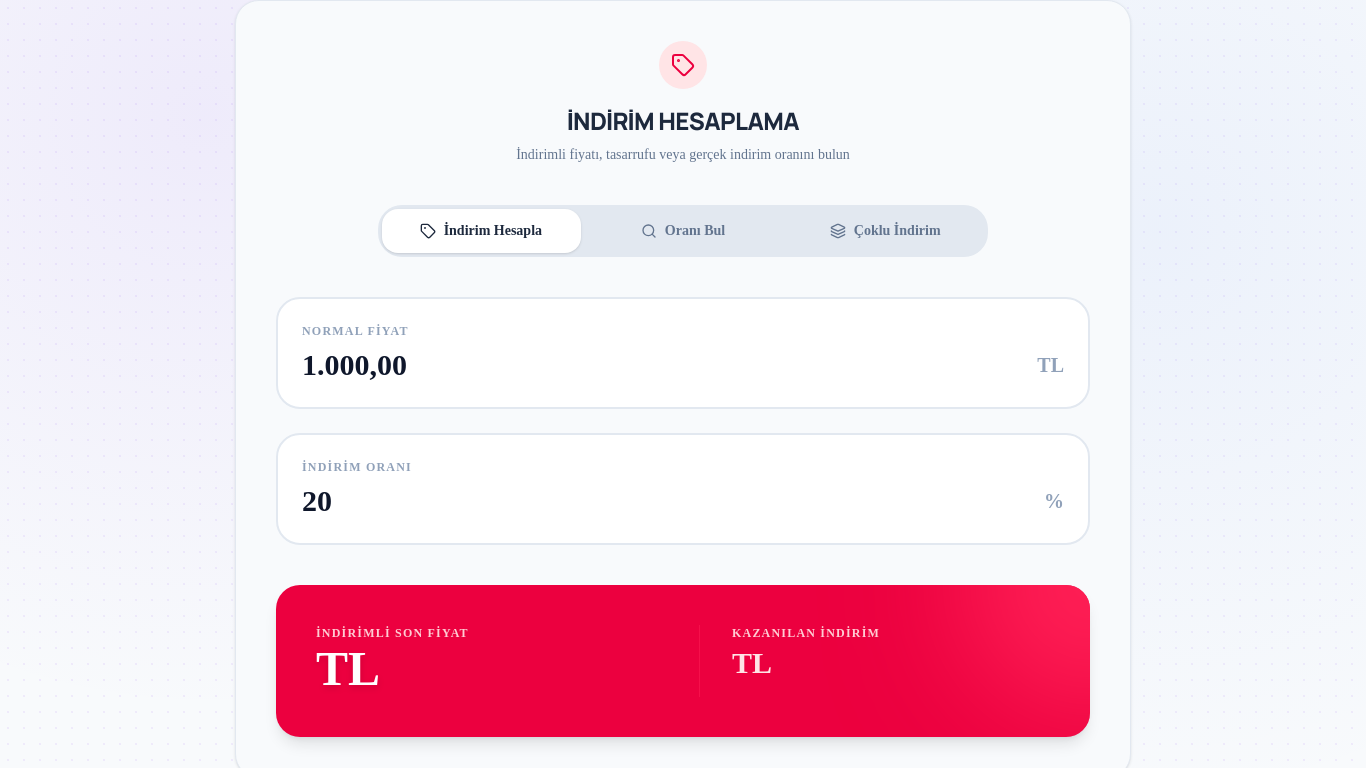
Test case: IndirimHesaplamaForm Integration Test › should have proper inputMode and format numbers
# Change value
Replace the text in the field below "Normal Fiyat" with "2500" at (683, 365), box top-left (302, 347), bottom-right (1064, 383)
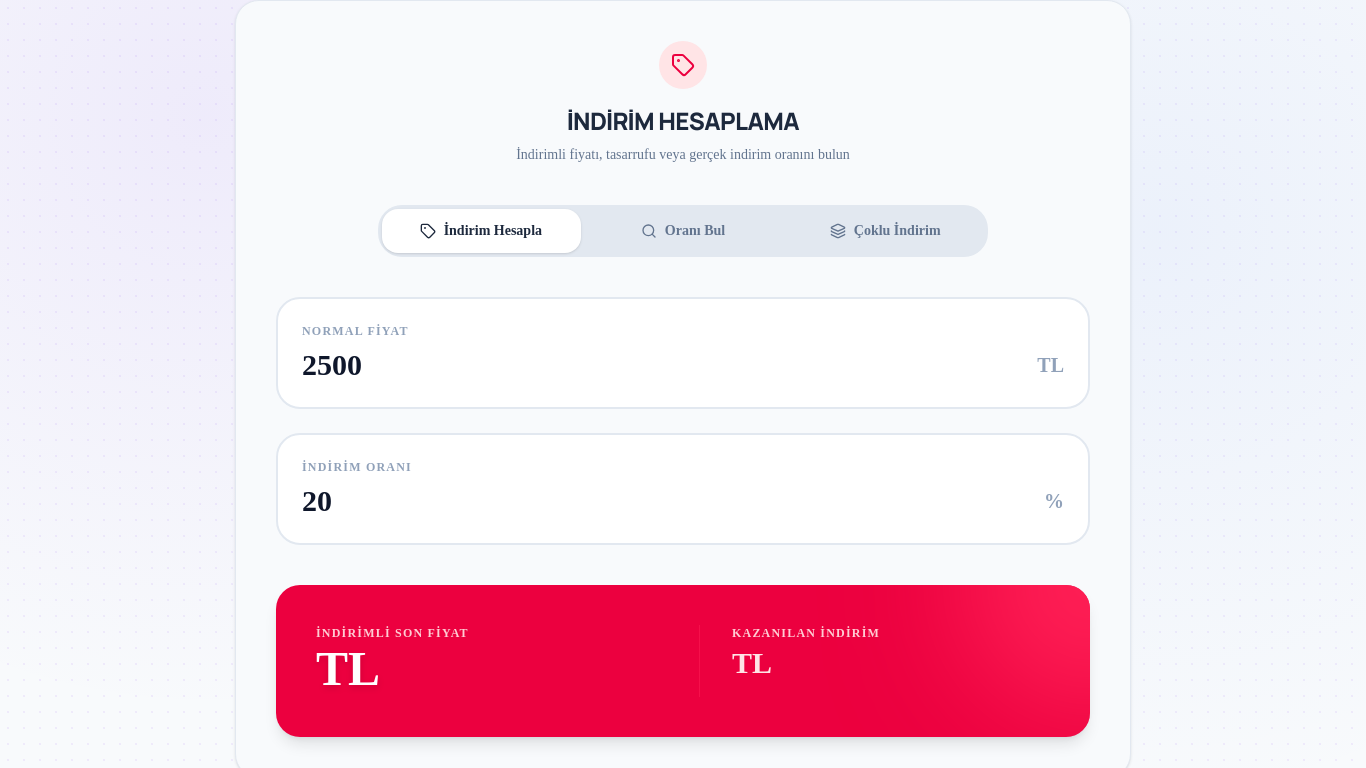
Leave the field below "Normal Fiyat", box top-left (302, 347), bottom-right (1064, 383)
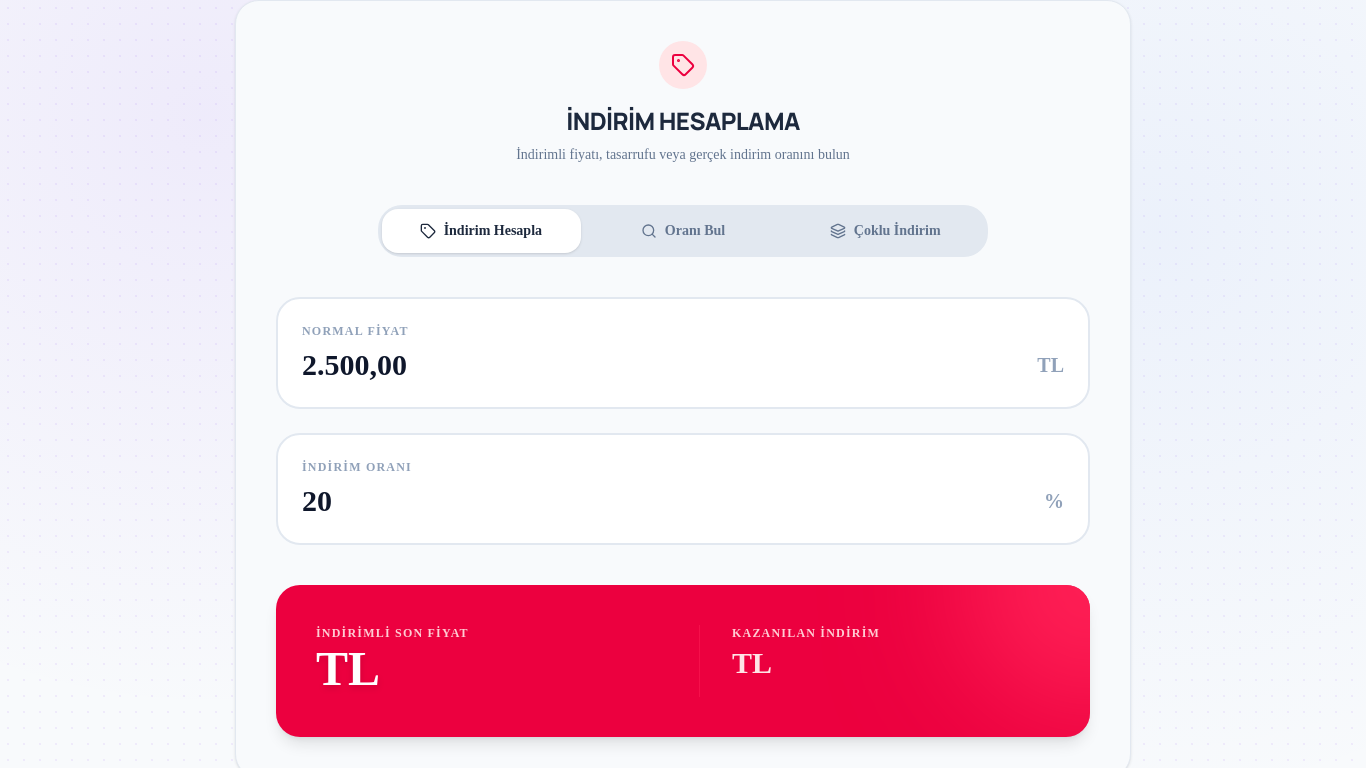
Result: the field below "Normal Fiyat" holds "2.500,00" at top-left (302, 347), bottom-right (1064, 383)
